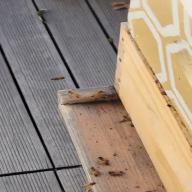Bee: (85, 176, 110, 192), (94, 152, 120, 165), (48, 74, 71, 88), (87, 165, 107, 177), (64, 91, 90, 99)
